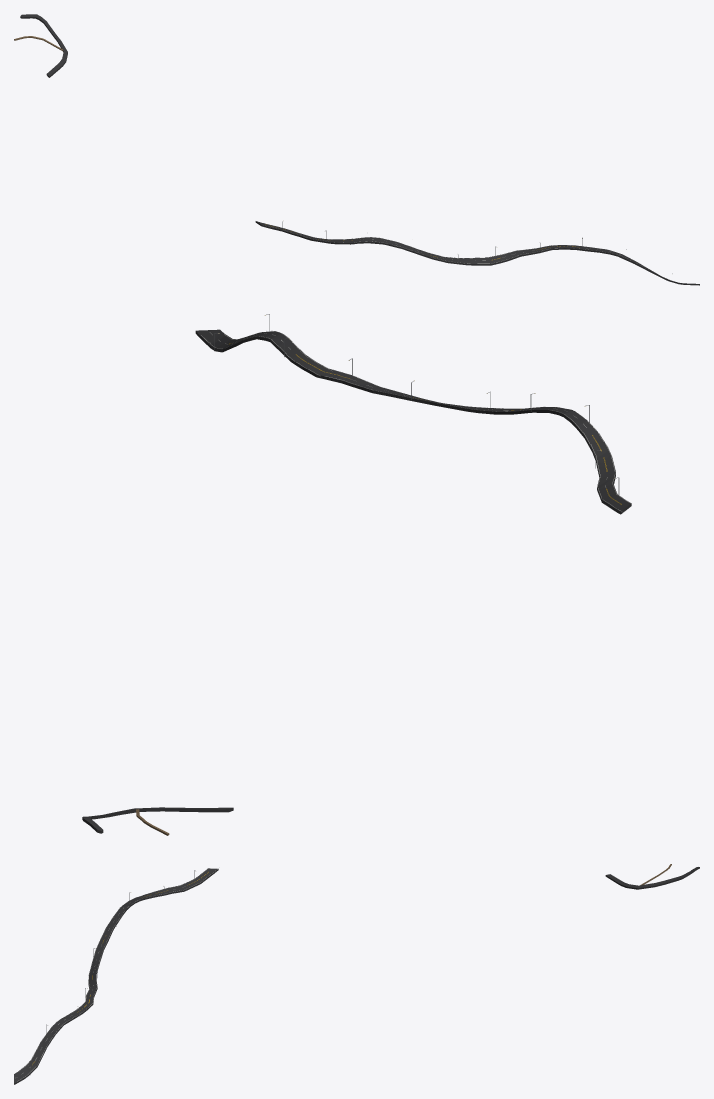
The picture shows the model from 3 angles, top to bottom: view 1: azimuth 30°, elevation 25°; view 2: azimuth 150°, elevation 25°; view 3: azimuth 270°, elevation 25°; orthographic projection. The views are drawn at different scales.
Bounding box in the file's own units: 277 × 63.08 × 518.
